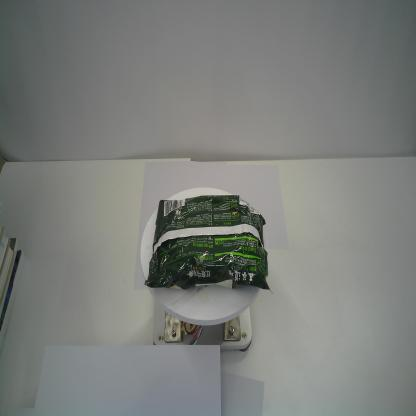Instant Noodles: (143, 192, 277, 296)
